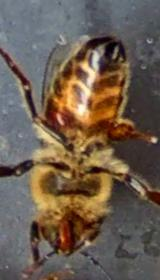varroa_mite: (30, 94, 80, 139)
